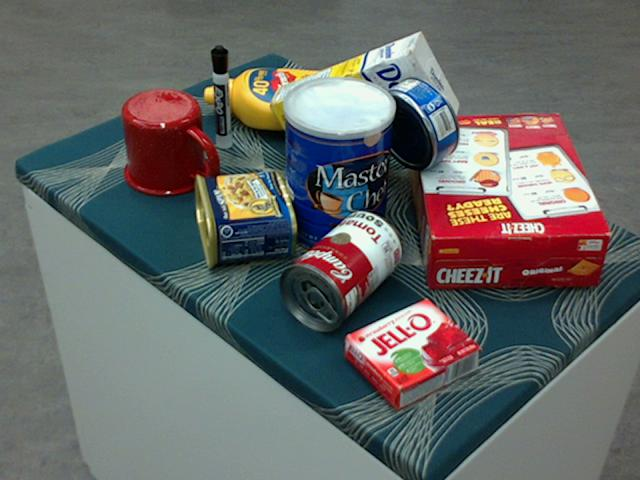cracker_box: (405, 112, 608, 288)
gelatin_box: (344, 298, 480, 408)
large_marker: (209, 44, 232, 148)
master_chef_can: (282, 77, 394, 257)
mug: (121, 88, 216, 196)
mustard_bottle: (202, 66, 369, 133)
potted_meat_can: (191, 169, 296, 268)
sugar_box: (265, 32, 457, 170)
tomato_soup_can: (276, 210, 402, 329)
tuna_fish_can: (374, 75, 459, 168)
